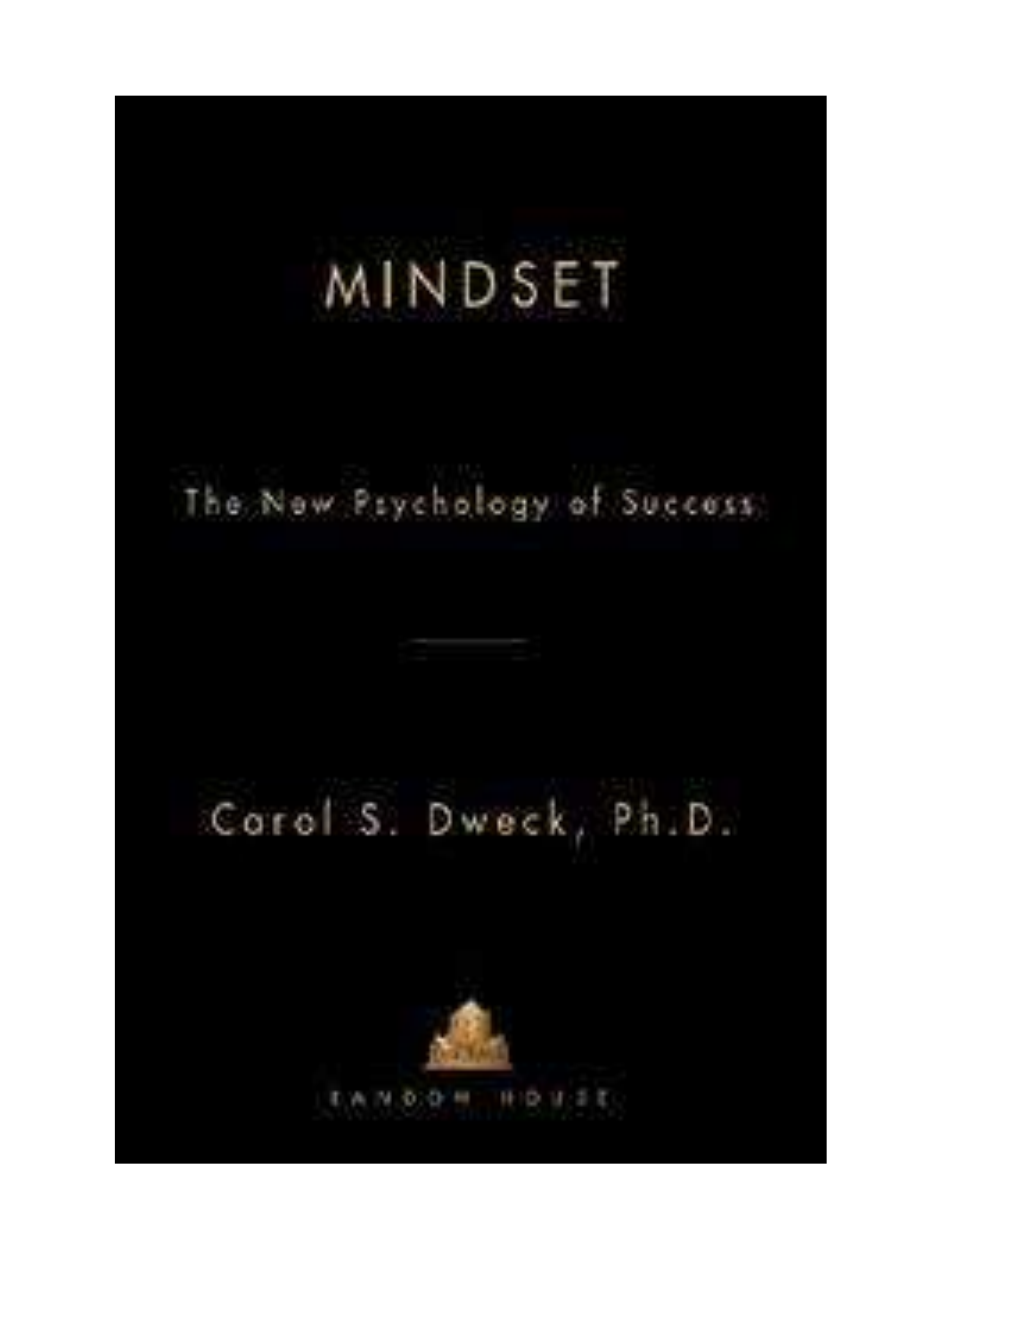latin: (208, 790, 738, 854), (183, 481, 753, 533), (322, 257, 621, 324)
